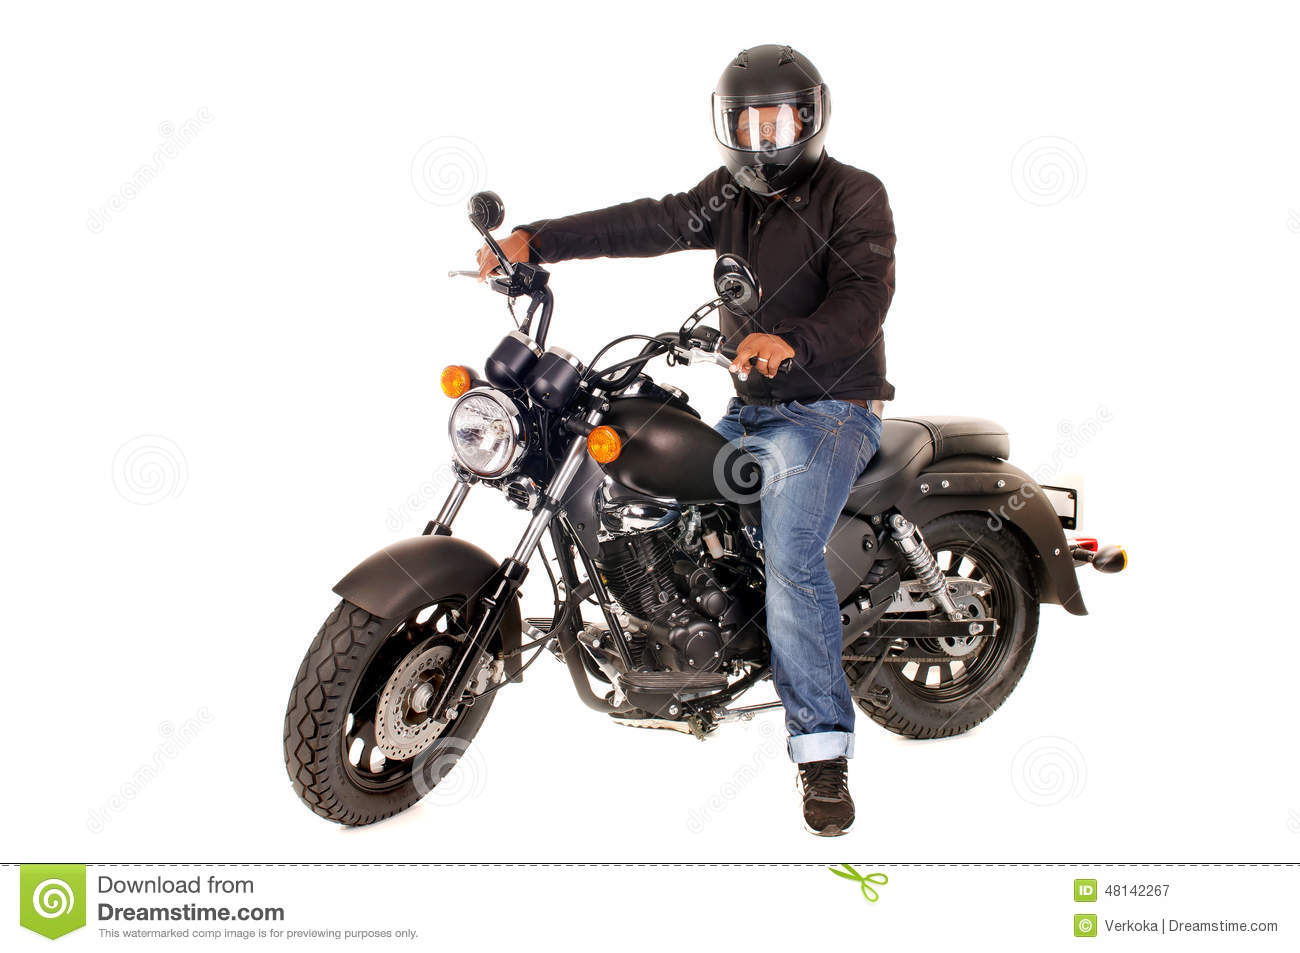helmet: (712, 42, 830, 181)
